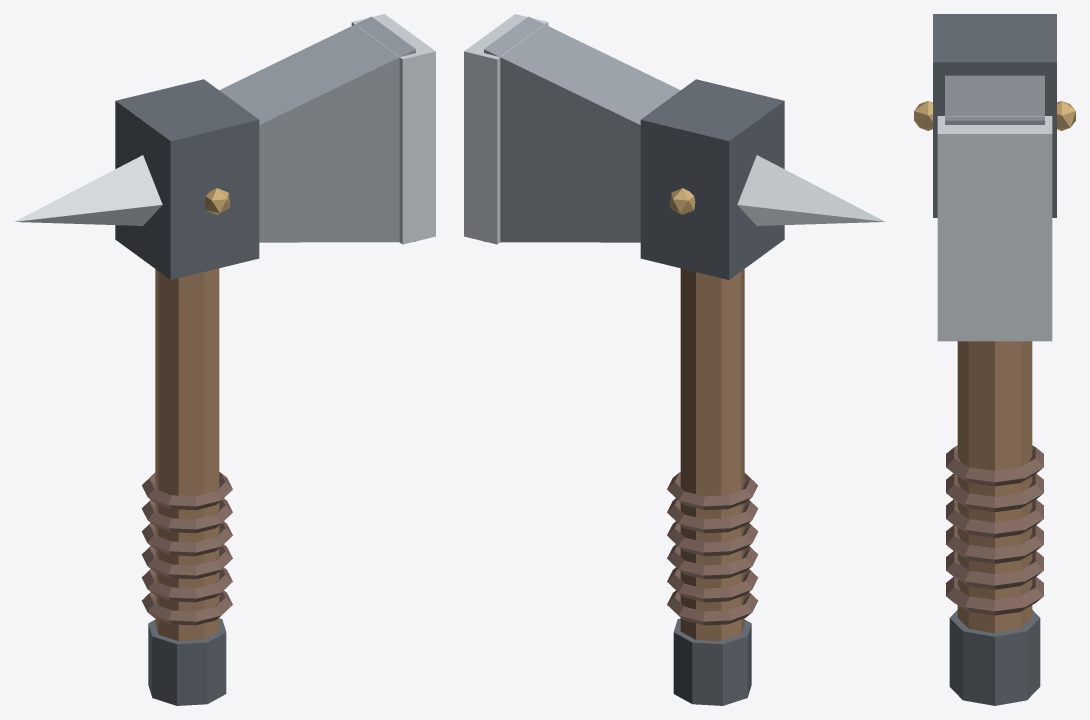
Rendered from one_handed_axe.glb.
3 views of the same model, side by side, from view 1: azimuth 30°, elevation 25°; view 2: azimuth 150°, elevation 25°; view 3: azimuth 270°, elevation 25° (orthographic). The views are drawn at different scales.
Parts seen in each view (by area): view 1: ChoppingBlade, HeadSocket, HaftCore, ChoppingEdge, BackSpike, LowerFerrule, GripWrap_5, GripWrap_0, GripWrap_1, GripWrap_2, GripWrap_3, GripWrap_4; view 2: ChoppingBlade, HeadSocket, HaftCore, ChoppingEdge, BackSpike, LowerFerrule, GripWrap_5, GripWrap_0, GripWrap_1, GripWrap_2, GripWrap_3, GripWrap_4; view 3: ChoppingEdge, HaftCore, HeadSocket, LowerFerrule, ChoppingBlade, GripWrap_5, GripWrap_0, GripWrap_1, GripWrap_4, GripWrap_2, GripWrap_3, Rivet_0 (+1 smaller).
Boxes of the visible parts, left/top/right/bottom form: ChoppingBlade: left=219, top=16, right=415, bottom=242; HeadSocket: left=115, top=79, right=259, bottom=279; HaftCore: left=155, top=268, right=219, bottom=641; ChoppingEdge: left=351, top=14, right=435, bottom=244; BackSpike: left=14, top=155, right=162, bottom=225; LowerFerrule: left=148, top=618, right=226, bottom=705; GripWrap_5: left=142, top=472, right=232, bottom=510; GripWrap_0: left=141, top=590, right=232, bottom=625; GripWrap_1: left=141, top=567, right=232, bottom=602; GripWrap_2: left=141, top=544, right=232, bottom=579; GripWrap_3: left=141, top=521, right=232, bottom=556; GripWrap_4: left=141, top=498, right=232, bottom=533; ChoppingBlade: left=484, top=16, right=680, bottom=242; HeadSocket: left=640, top=79, right=784, bottom=279; HaftCore: left=680, top=268, right=744, bottom=641; ChoppingEdge: left=464, top=14, right=548, bottom=244; BackSpike: left=737, top=155, right=885, bottom=225; LowerFerrule: left=673, top=618, right=751, bottom=705; GripWrap_5: left=667, top=472, right=757, bottom=510; GripWrap_0: left=667, top=590, right=758, bottom=625; GripWrap_1: left=667, top=567, right=758, bottom=602; GripWrap_2: left=667, top=544, right=758, bottom=579; GripWrap_3: left=667, top=521, right=758, bottom=556; GripWrap_4: left=667, top=498, right=758, bottom=533; ChoppingEdge: left=937, top=116, right=1052, bottom=341; HaftCore: left=957, top=341, right=1032, bottom=633; HeadSocket: left=933, top=14, right=1056, bottom=217; LowerFerrule: left=949, top=610, right=1040, bottom=705; ChoppingBlade: left=945, top=75, right=1044, bottom=124; GripWrap_5: left=946, top=445, right=1043, bottom=486; GripWrap_0: left=946, top=577, right=1043, bottom=615; GripWrap_1: left=946, top=551, right=1043, bottom=589; GripWrap_4: left=946, top=473, right=1043, bottom=512; GripWrap_2: left=946, top=525, right=1043, bottom=563; GripWrap_3: left=946, top=499, right=1043, bottom=537; Rivet_0: left=914, top=101, right=932, bottom=130.
Bounding box in the file's own units: 1.08 × 1.57 × 0.3395.
